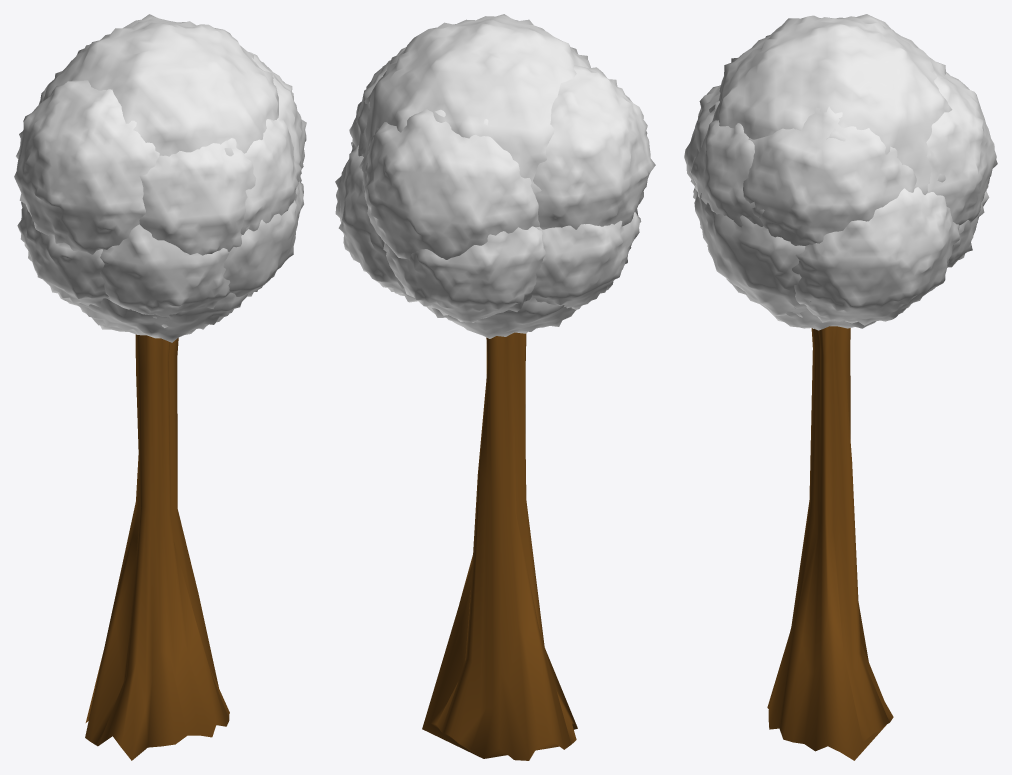
The model's file is Tree0.fbx.
3 views of the same model, side by side, from view 1: azimuth 30°, elevation 25°; view 2: azimuth 150°, elevation 25°; view 3: azimuth 270°, elevation 25° (orthographic).
Visible parts, largest first — view 1: Cylinder, Icosphere.007, Icosphere.012, Icosphere.008, Icosphere.006, Icosphere.003, Icosphere.009, Icosphere.002, Icosphere, Icosphere.010; view 2: Cylinder, Icosphere.007, Icosphere.011, Icosphere.012, Icosphere.001, Icosphere.003, Icosphere.004, Icosphere, Icosphere.010; view 3: Cylinder, Icosphere.007, Icosphere.010, Icosphere.004, Icosphere.011, Icosphere.002, Icosphere.009, Icosphere.008, Icosphere, Icosphere.001.
Part boxes in pixels (left/top/right/bottom): Cylinder: left=85, top=334, right=229, bottom=760; Icosphere.007: left=42, top=14, right=278, bottom=156; Icosphere.012: left=14, top=80, right=159, bottom=254; Icosphere.008: left=139, top=138, right=256, bottom=255; Icosphere.006: left=99, top=224, right=230, bottom=327; Icosphere.003: left=17, top=202, right=109, bottom=307; Icosphere.009: left=229, top=118, right=301, bottom=234; Icosphere.002: left=223, top=181, right=303, bottom=296; Icosphere: left=76, top=290, right=257, bottom=342; Icosphere.010: left=249, top=52, right=306, bottom=182; Cylinder: left=422, top=332, right=577, bottom=760; Icosphere.007: left=359, top=14, right=590, bottom=194; Icosphere.011: left=362, top=109, right=539, bottom=260; Icosphere.012: left=533, top=65, right=655, bottom=229; Icosphere.001: left=383, top=226, right=546, bottom=322; Icosphere.003: left=531, top=212, right=641, bottom=309; Icosphere.004: left=335, top=142, right=425, bottom=306; Icosphere: left=426, top=297, right=590, bottom=338; Icosphere.010: left=349, top=47, right=406, bottom=156; Cylinder: left=767, top=326, right=893, bottom=760; Icosphere.007: left=709, top=14, right=952, bottom=194; Icosphere.010: left=743, top=106, right=916, bottom=245; Icosphere.004: left=792, top=187, right=959, bottom=325; Icosphere.011: left=926, top=70, right=997, bottom=225; Icosphere.002: left=694, top=193, right=810, bottom=317; Icosphere.009: left=690, top=120, right=764, bottom=227; Icosphere.008: left=684, top=85, right=720, bottom=199; Icosphere: left=726, top=278, right=876, bottom=330; Icosphere.001: left=947, top=190, right=989, bottom=267.
Size of the model in its own units: 210 by 523 by 210.
